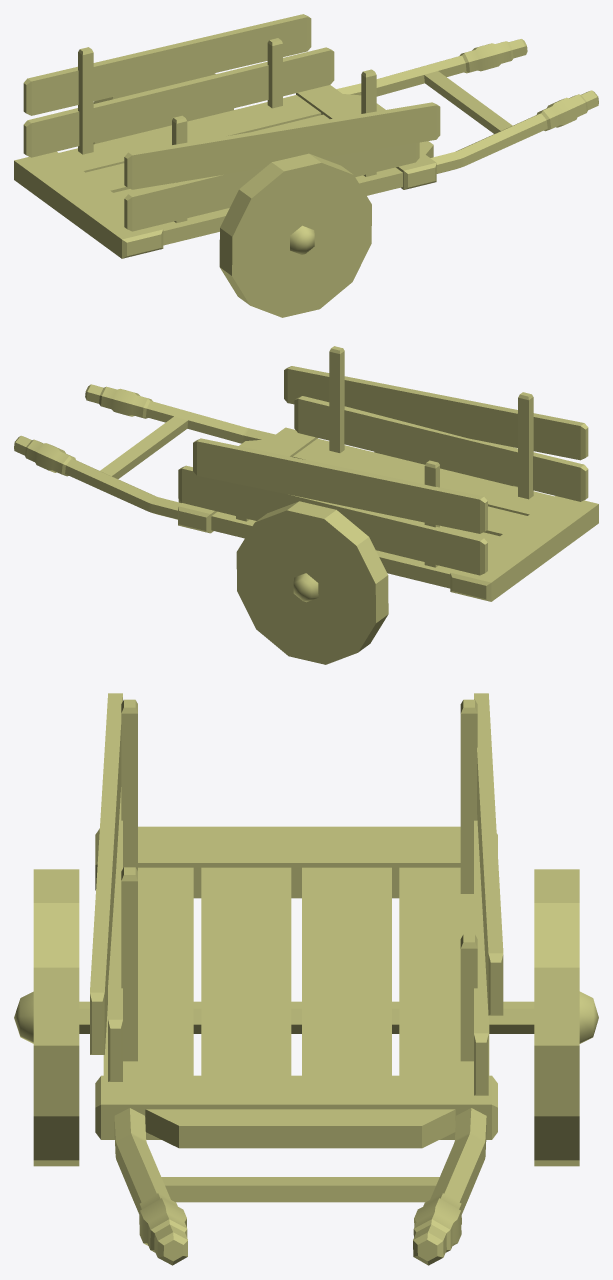
Rendered from Cart_2.fbx.
3 views of the same model, one above another, from view 1: azimuth 30°, elevation 25°; view 2: azimuth 150°, elevation 25°; view 3: azimuth 270°, elevation 25° (orthographic). The views are drawn at different scales.
Parts seen in each view (by area): view 1: Cart2; view 2: Cart2; view 3: Cart2.
Part boxes in pixels (<box>): Cart2: <box>14,14,598,317</box>; Cart2: <box>14,346,598,664</box>; Cart2: <box>14,693,598,1265</box>.
Size of the model in its own units: 300 by 116 by 170.
